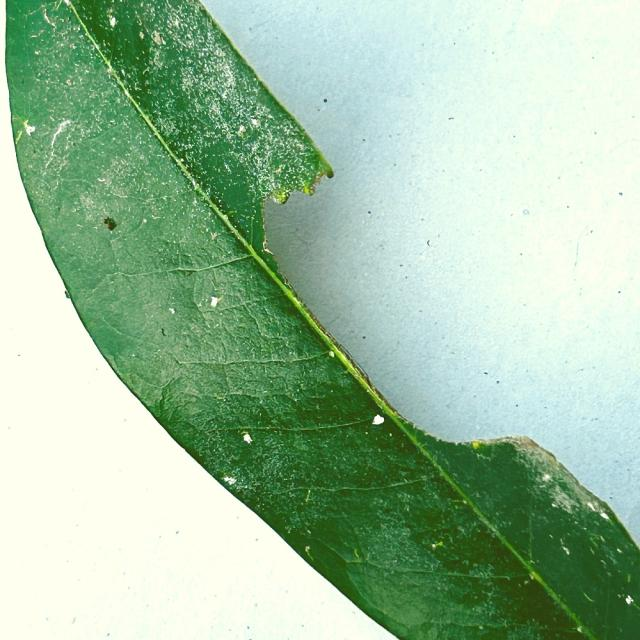Deficiency Leaf: (276, 169, 554, 442)
Lychee: (3, 0, 639, 639)
